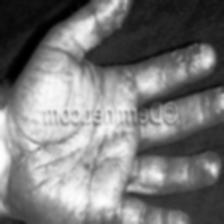Non-Cancerous Skin Condition: (0, 124, 220, 224), (20, 0, 215, 109), (177, 89, 224, 133)
